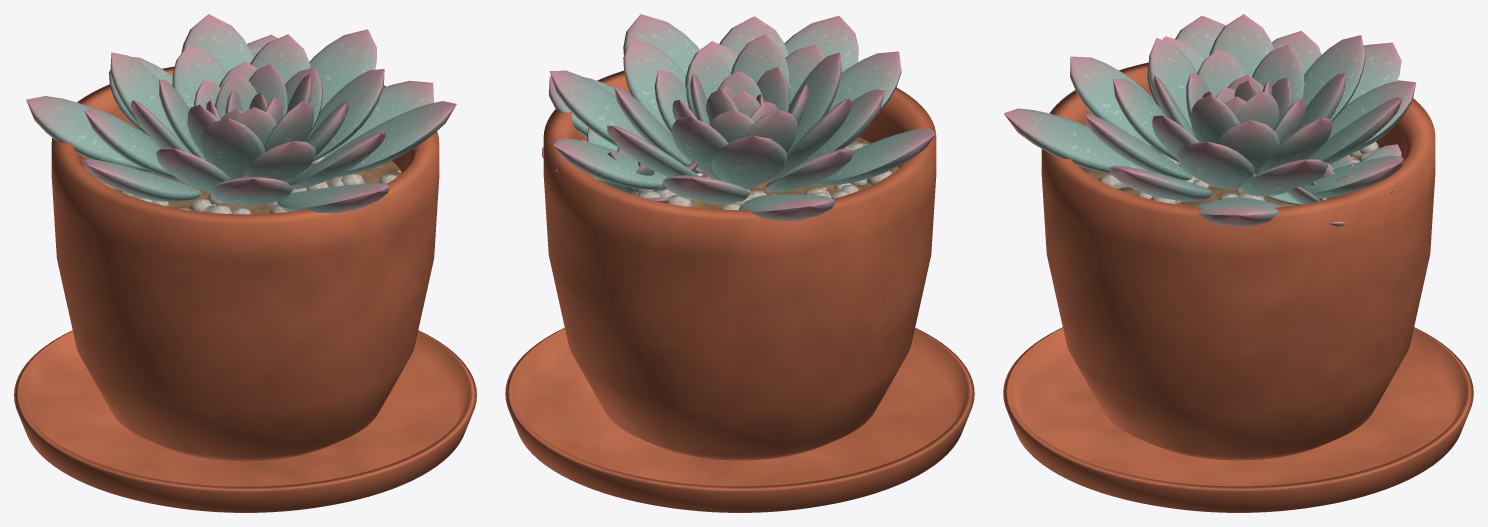
Rendered from echeveria.glb.
The picture shows the model from 3 angles, left to right: view 1: azimuth 30°, elevation 25°; view 2: azimuth 150°, elevation 25°; view 3: azimuth 270°, elevation 25°; orthographic projection.
Visible parts, largest first — view 1: piece-0, piece-1, piece-9, piece-5, piece-12, piece-24, piece-17, piece-8, piece-13, piece-18, piece-6, piece-15 (+19 smaller); view 2: piece-0, piece-1, piece-12, piece-8, piece-18, piece-7, piece-17, piece-11, piece-6, piece-24, piece-9, piece-23 (+21 smaller); view 3: piece-0, piece-1, piece-6, piece-11, piece-18, piece-17, piece-14, piece-7, piece-15, piece-10, piece-21, piece-24 (+22 smaller).
Boxes of the visible parts, <box> form: piece-0: <box>51,66,439,461</box>; piece-1: <box>14,330,476,512</box>; piece-9: <box>311,101,456,177</box>; piece-5: <box>26,96,152,172</box>; piece-12: <box>309,29,376,110</box>; piece-24: <box>199,118,265,179</box>; piece-17: <box>305,69,384,161</box>; piece-8: <box>82,159,201,201</box>; piece-13: <box>84,108,177,179</box>; piece-18: <box>110,52,180,141</box>; piece-6: <box>277,183,389,213</box>; piece-15: <box>181,14,253,73</box>; piece-0: <box>543,70,936,460</box>; piece-1: <box>505,327,974,512</box>; piece-12: <box>549,70,647,146</box>; piece-8: <box>810,128,935,185</box>; piece-18: <box>711,135,787,188</box>; piece-7: <box>553,138,667,189</box>; piece-17: <box>623,39,685,127</box>; piece-11: <box>828,51,901,114</box>; piece-6: <box>784,15,858,72</box>; piece-24: <box>786,52,841,153</box>; piece-9: <box>623,14,699,75</box>; piece-23: <box>671,116,728,180</box>; piece-0: <box>1041,62,1435,460</box>; piece-1: <box>1003,327,1473,512</box>; piece-6: <box>1004,108,1147,173</box>; piece-11: <box>1070,56,1160,153</box>; piece-18: <box>1302,35,1365,121</box>; piece-17: <box>1177,142,1254,189</box>; piece-14: <box>1085,113,1192,180</box>; piece-7: <box>1302,155,1403,198</box>; piece-15: <box>1309,97,1402,164</box>; piece-10: <box>1328,80,1416,154</box>; piece-21: <box>1209,14,1274,76</box>; piece-24: <box>1149,38,1197,128</box>.
Bounding box in the file's own units: 0.196 × 0.164 × 0.196.
4 materials, 4 textured.
